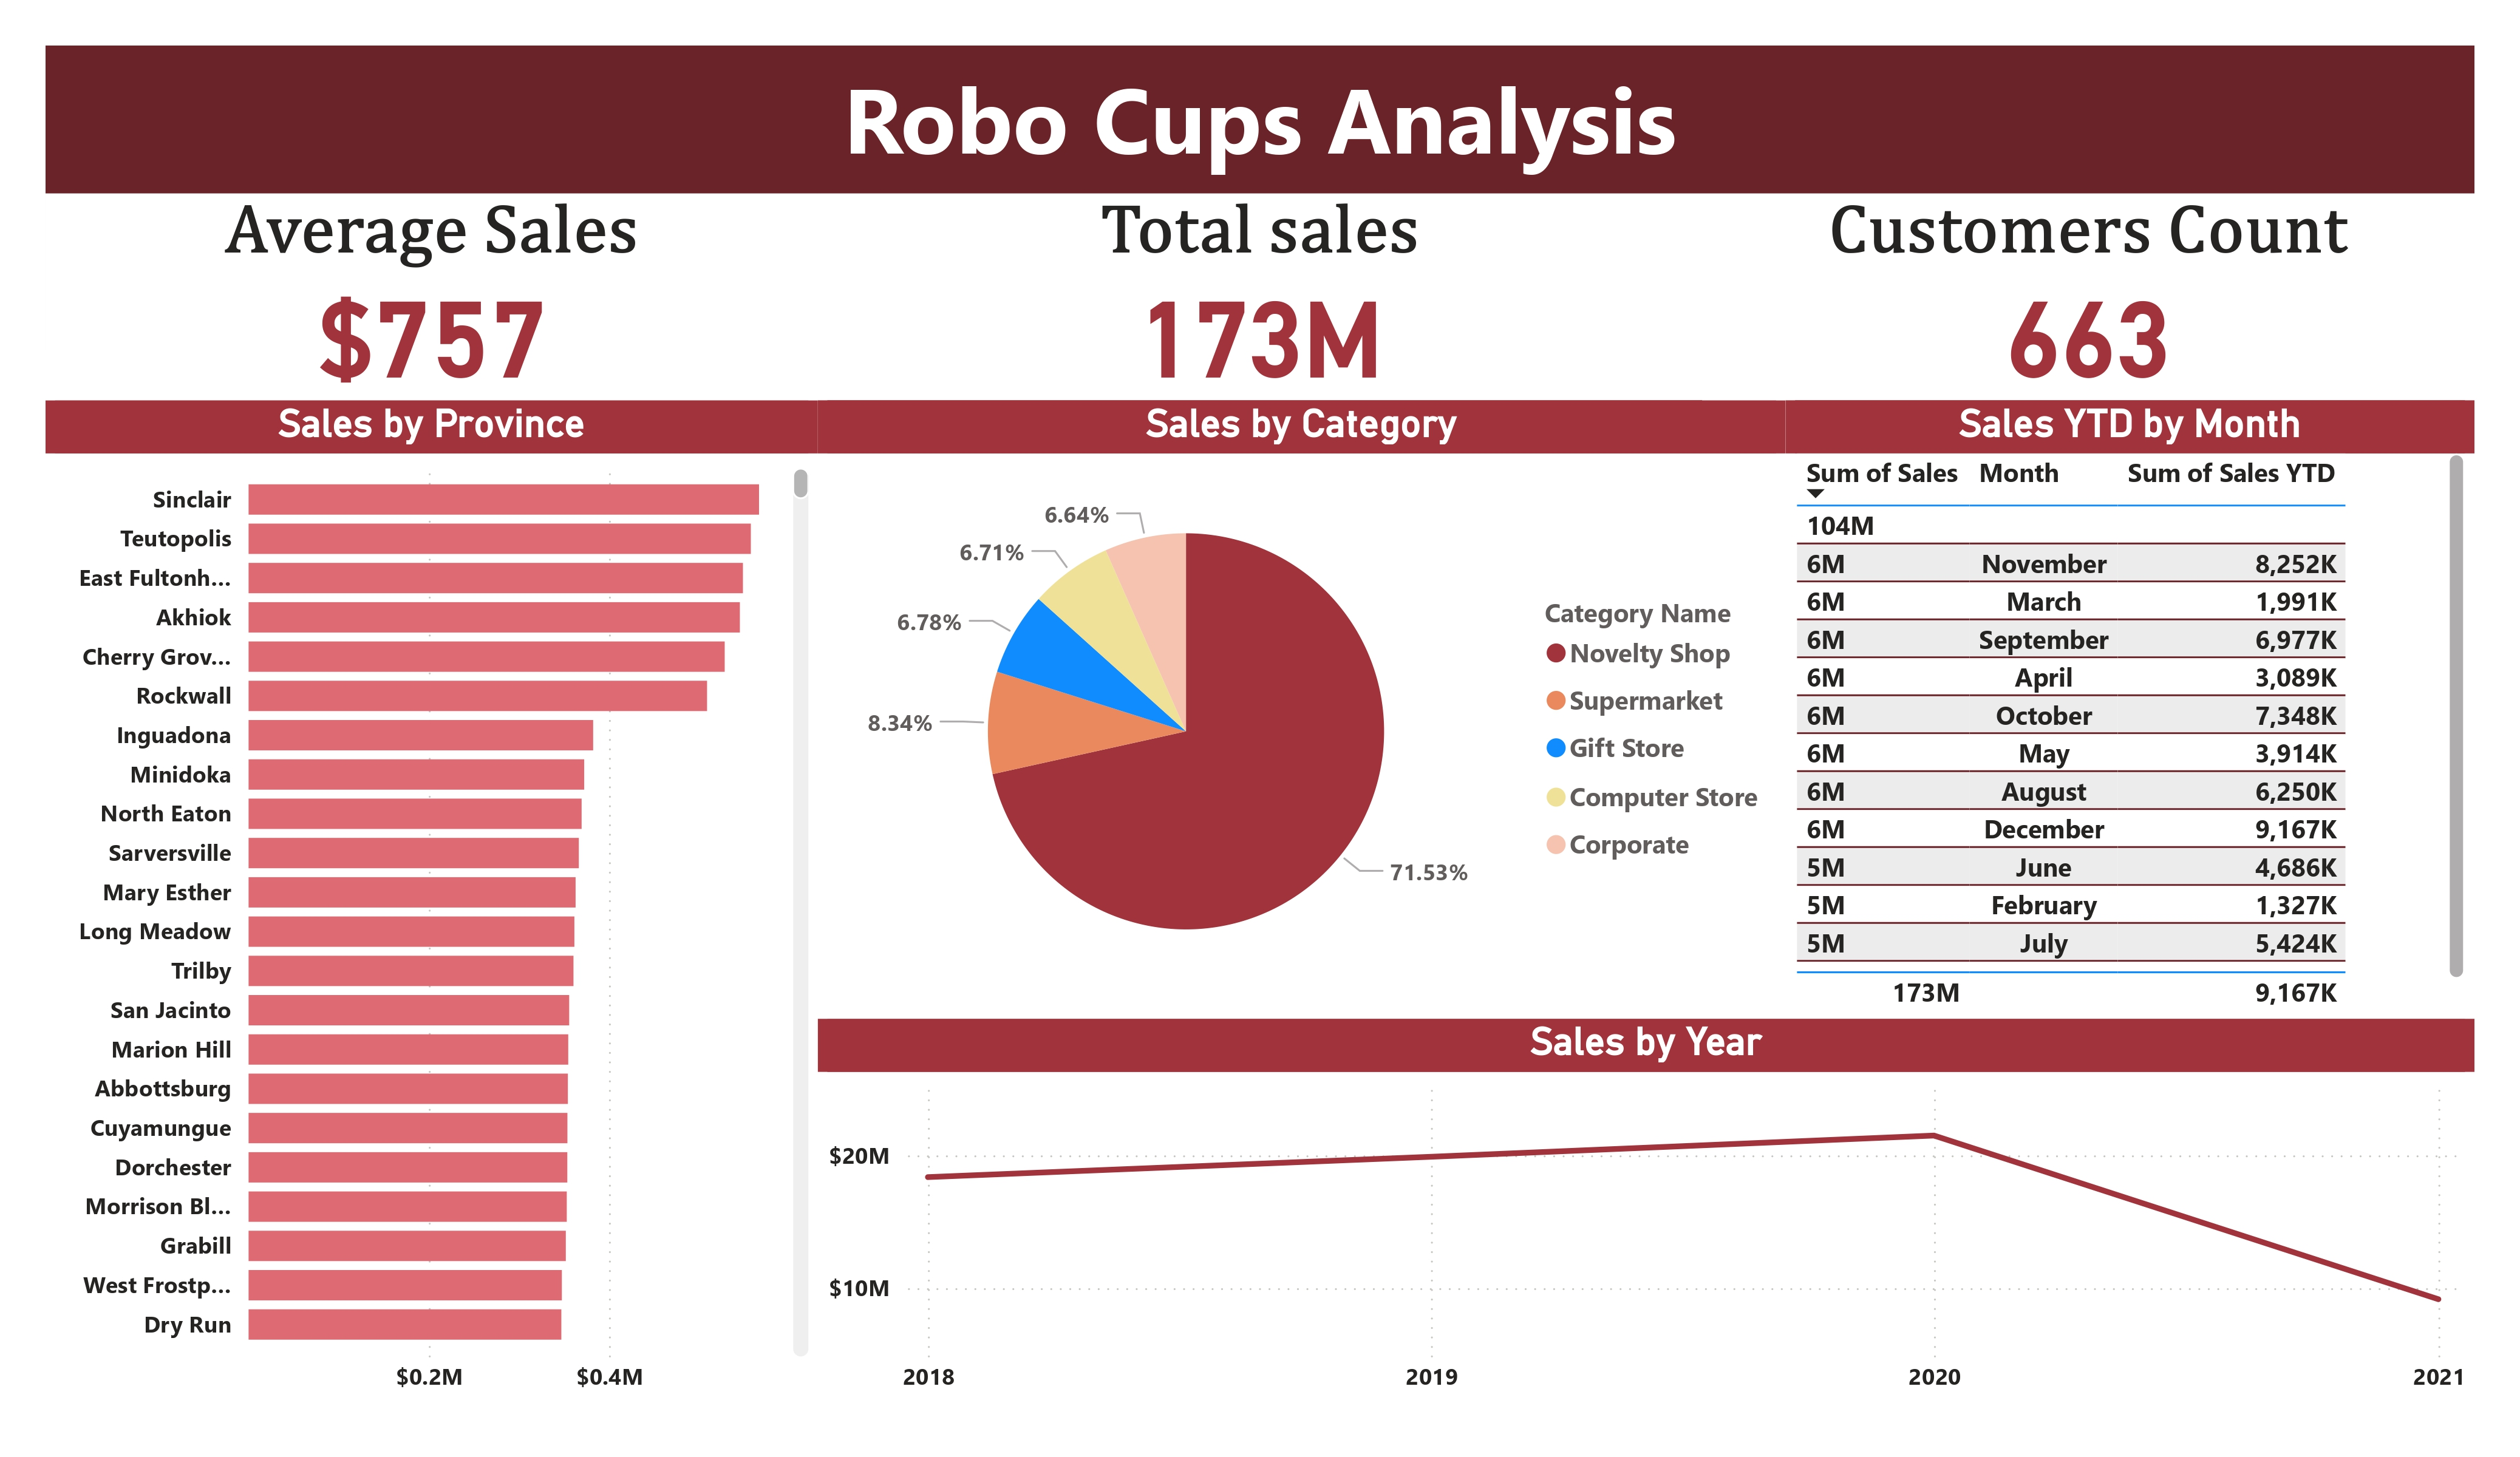

The page's visual inventory and layout, read from the dashboard file:
{"tool":"powerbi","page":{"name":"Sales","canvas":[1280,720],"ordinal":1},"visuals":[{"type":"barChart","title":" Sales by Province","fields":{"Y":["Sum(InvoiceData.Sales)"],"Category":["MasterCustomer1.City"]},"box":[0,186.7,406.7,533.3],"z":0},{"type":"textbox","box":[0,0,1280,78.3],"z":1000},{"type":"card","title":"Total sales","fields":{"Values":["InvoiceData.Total Sales"]},"box":[406.7,78.3,466.7,108.3],"z":2000},{"type":"lineChart","title":" Sales by Year","fields":{"Category":["InvoiceData.Date.Variation.Date Hierarchy.Year"],"Y":["Sum(InvoiceData.Sales)"]},"box":[406.7,513.3,873.3,206.7],"z":3000},{"type":"pieChart","title":"Sales by Category","fields":{"Category":["MasterCustomer1.CustomerCategoryName"],"Y":["Sum(InvoiceData.Sales)"]},"box":[406.7,186.7,510,326.7],"z":4000},{"type":"card","title":"Average Sales","fields":{"Values":["InvoiceData.Average Sales"]},"box":[0,78.3,406.7,108.3],"z":5000},{"type":"card","title":"Customers Count","fields":{"Values":["InvoiceData.Customers Count"]},"box":[873.3,78.3,406.7,108.3],"z":6000},{"type":"tableEx","title":"Sales YTD by Month","fields":{"Values":["Sum(InvoiceData.Sales)","InvoiceData.Date.Variation.Date Hierarchy.Month","InvoiceData.Sum of Sales YTD"]},"box":[916.7,186.7,363.3,326.7],"z":7000}]}

Visuals, with their boxes in screenshot pixels (x1, y1, x2, y2):
" Sales by Province" barChart: 46,399,817,1411
textbox: 46,46,2474,194
"Total sales" card: 817,194,1703,399
" Sales by Year" lineChart: 817,1019,2474,1411
"Sales by Category" pieChart: 817,399,1785,1019
"Average Sales" card: 46,194,817,399
"Customers Count" card: 1703,194,2474,399
"Sales YTD by Month" tableEx: 1785,399,2474,1019
